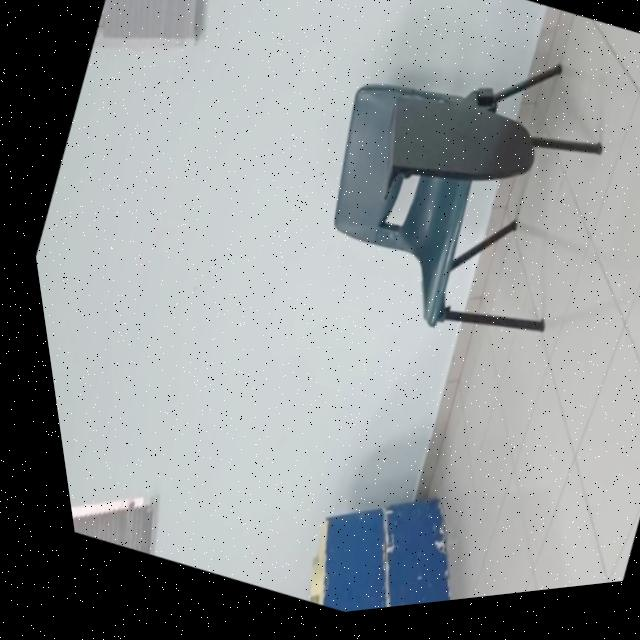sandalye: (327, 76, 595, 341)
